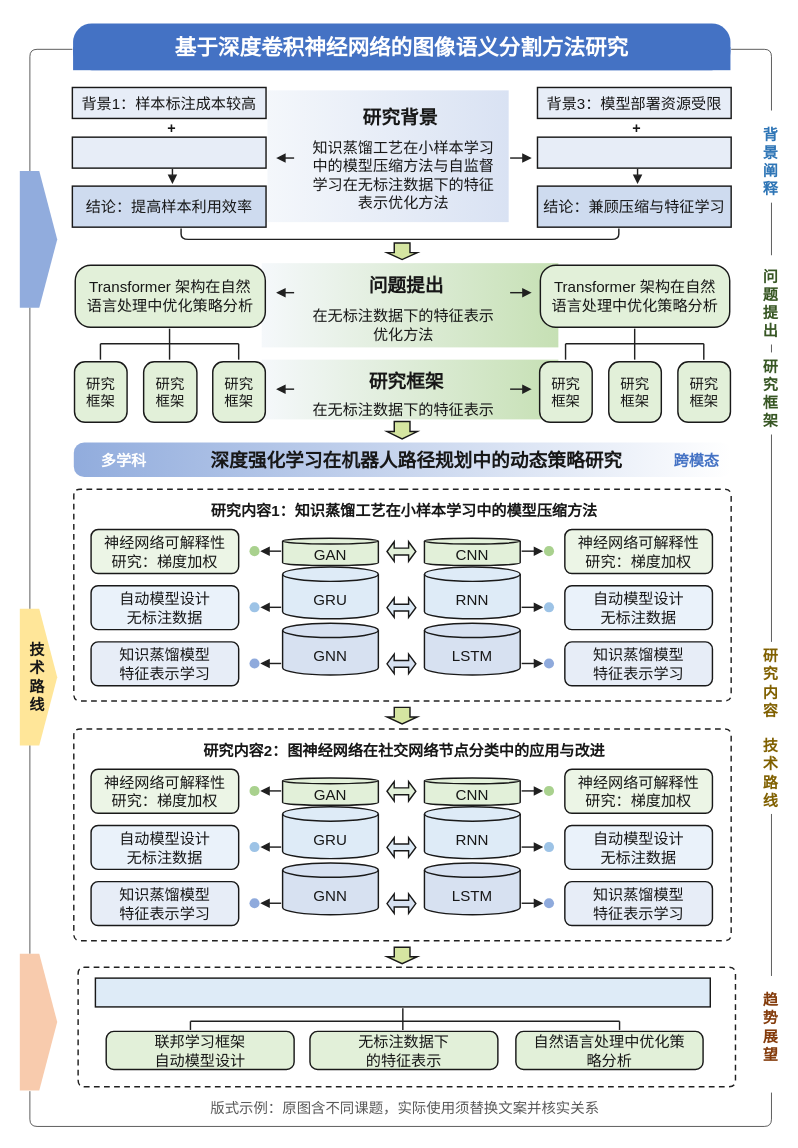
The diagram is 798 pixels wide and 1148 high, and some of its shapes have lost their labels. Here are the shapes that lost their labels. From the top down, the centre of each, then its label:
(x=168, y=152): 背景2：小样本泛化困难
(x=634, y=152): 背景4：无标注数据积累
(x=38, y=239): 研 究 背 景
(x=402, y=992): 结论与趋势展望
(x=38, y=1021): 结 论 展 望
